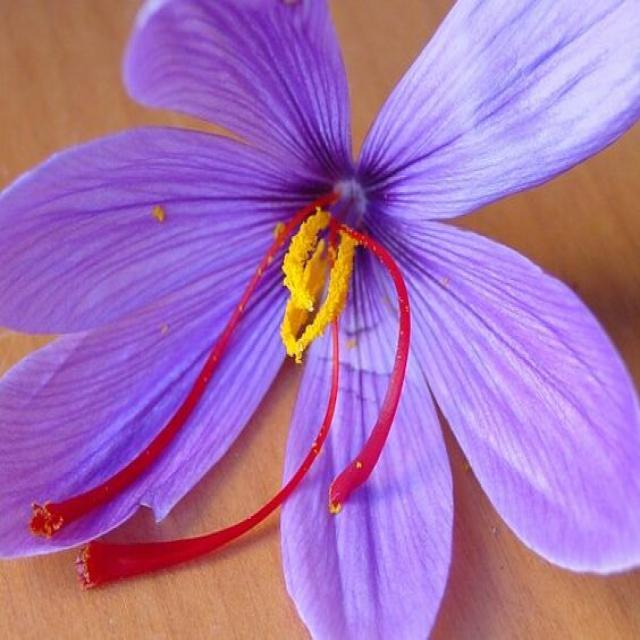Flower: (0, 0, 640, 640)
stigma: (31, 187, 347, 540), (79, 216, 348, 592), (326, 215, 413, 512)
